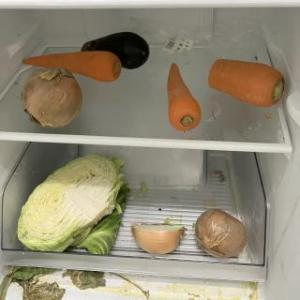cabbage: (15, 152, 125, 252)
carrot: (208, 58, 286, 110), (20, 50, 122, 84), (166, 61, 202, 134)
eggplant: (77, 31, 150, 71)
onion: (19, 68, 83, 130), (194, 208, 248, 260), (129, 223, 187, 255)
